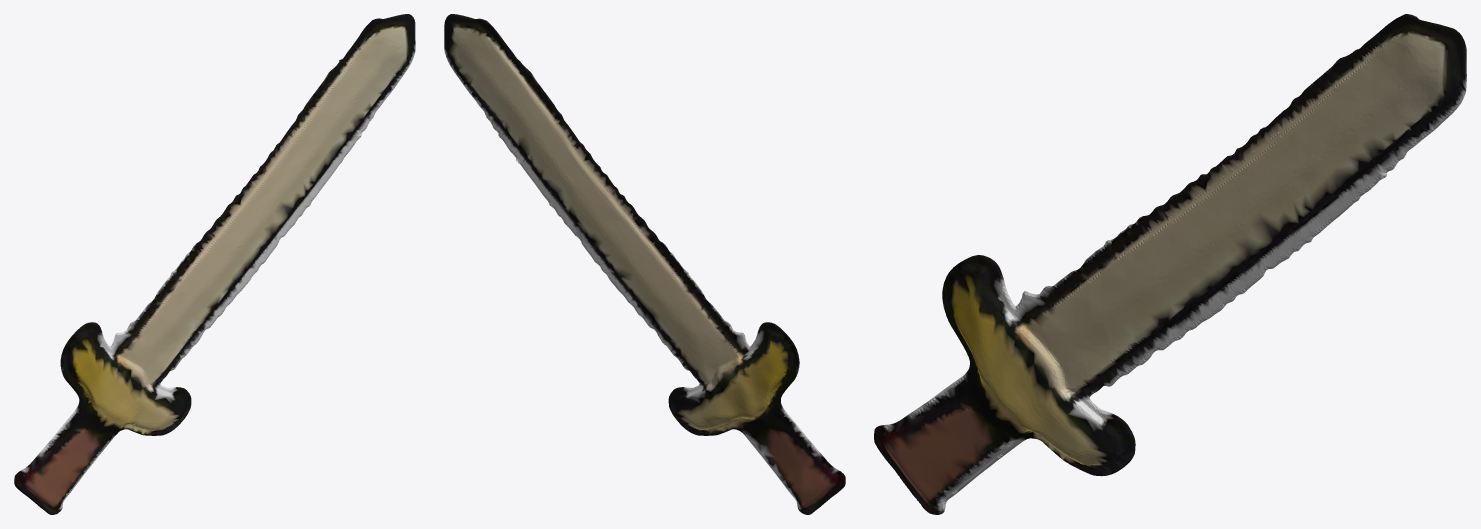
Rendered from b_sword_2.glb.
3 renders of one model, left to right at view 1: azimuth 30°, elevation 25°; view 2: azimuth 150°, elevation 25°; view 3: azimuth 330°, elevation 25°, orthographic. The views are drawn at different scales.
Parts seen in each view (by area): view 1: geometry_0; view 2: geometry_0; view 3: geometry_0.
Boxes of the visible parts, left/top/right/bottom form: geometry_0: left=14, top=14, right=415, bottom=514; geometry_0: left=444, top=14, right=845, bottom=514; geometry_0: left=874, top=14, right=1466, bottom=514.
Size of the model in its own units: 0.9375 by 0.9299 by 0.0414.
